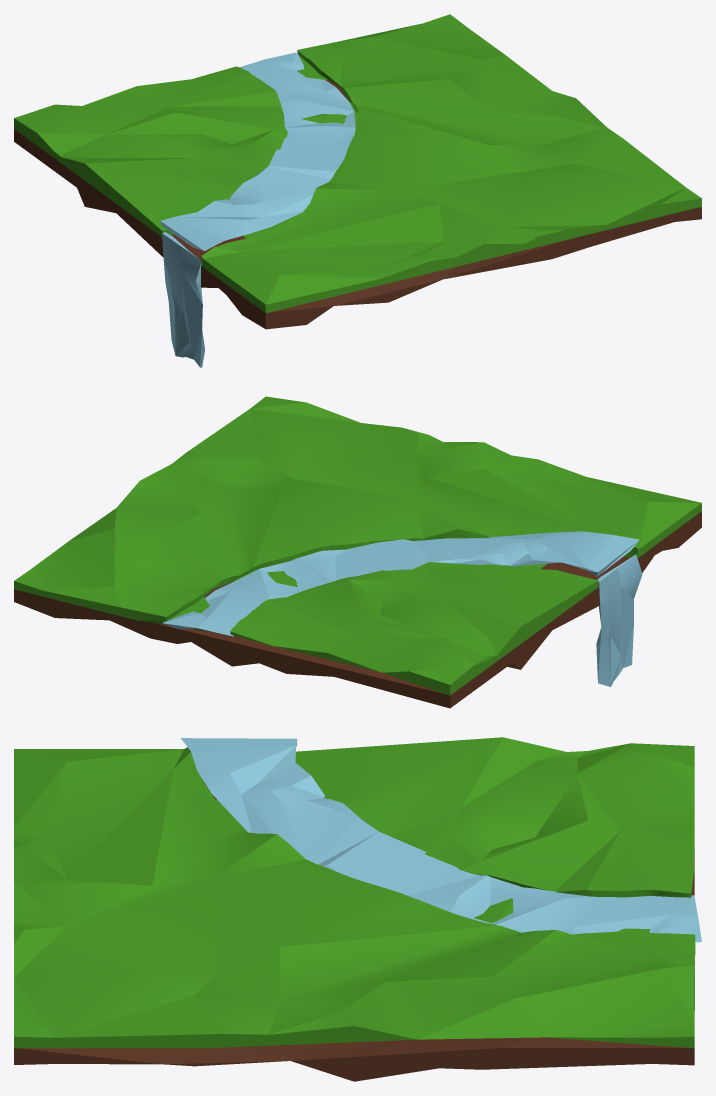
The model's file is Terrain_003.FBX.
The picture shows the model from 3 angles, top to bottom: view 1: azimuth 30°, elevation 25°; view 2: azimuth 150°, elevation 25°; view 3: azimuth 270°, elevation 25°; orthographic projection. The views are drawn at different scales.
Parts seen in each view (by area): view 1: Box002, Box005, Box003, Box006; view 2: Box002, Box005, Box003, Box006; view 3: Box002, Box005, Box003.
Part boxes in pixels (box(x1,y1,x2,y2)): Box002: box(14, 14, 701, 313); Box005: box(160, 52, 355, 250); Box003: box(14, 80, 701, 329); Box006: box(162, 232, 204, 367); Box002: box(14, 396, 701, 695); Box005: box(162, 531, 639, 636); Box003: box(14, 511, 701, 708); Box006: box(596, 554, 642, 686); Box002: box(14, 737, 695, 1048); Box005: box(181, 738, 701, 942); Box003: box(14, 782, 694, 1081).
Bounding box in the file's own units: 202 × 56.93 × 202.
